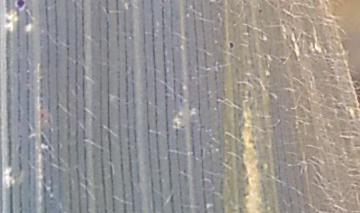tarspot: (11, 1, 29, 13), (226, 39, 237, 51), (257, 7, 266, 17)
